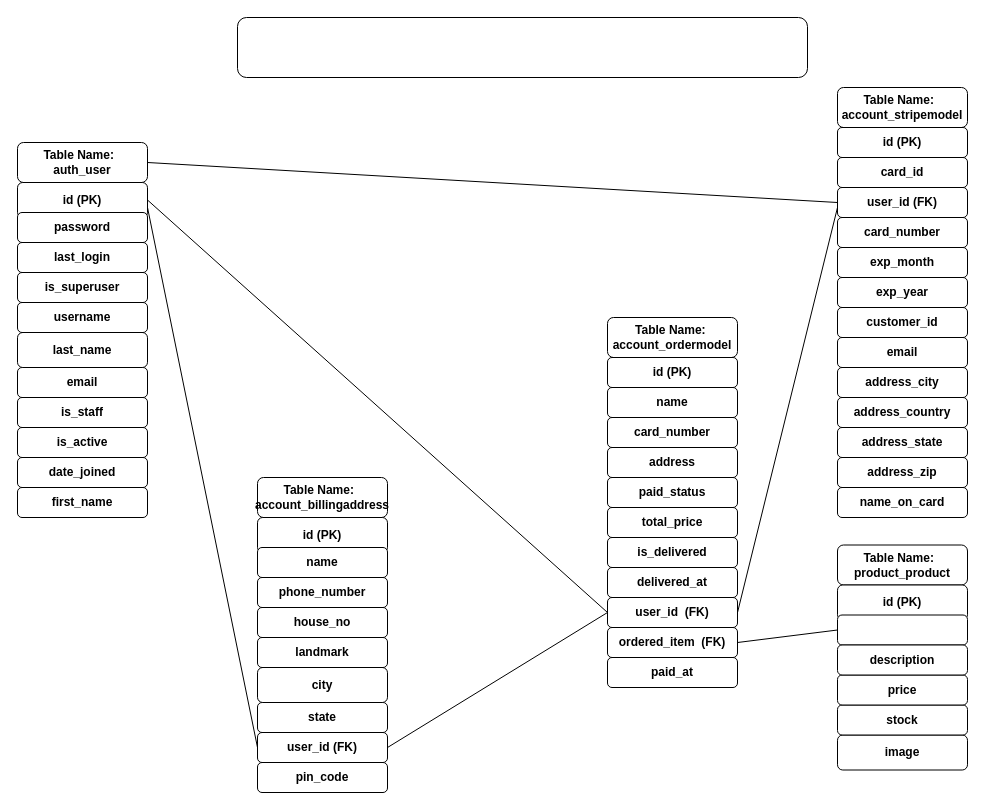
This 985x810 diagram has some shape labels left out. Here are the shapes that lost their labels. From the top down, the centre of each, then its label:
At point (522, 47): "Ecommerce Data schema and relationship".
At point (902, 629): "name (FK)".
